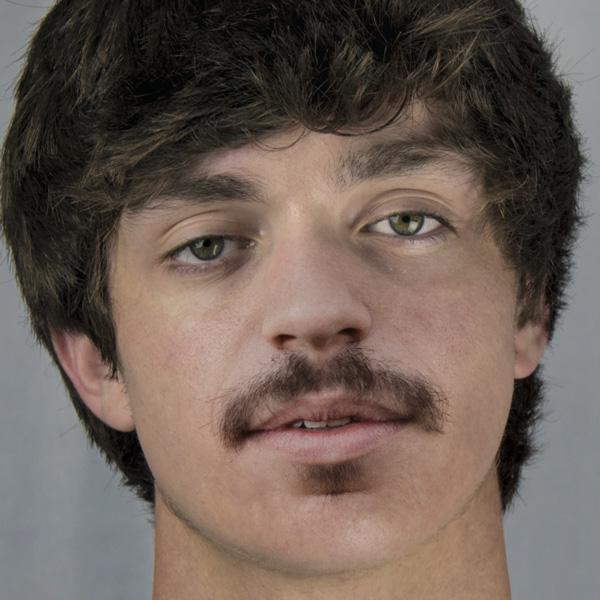Eyes: (151, 209, 269, 288), (345, 186, 466, 255)
